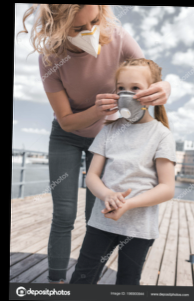with_mask: (66, 11, 101, 61), (114, 79, 148, 123)
